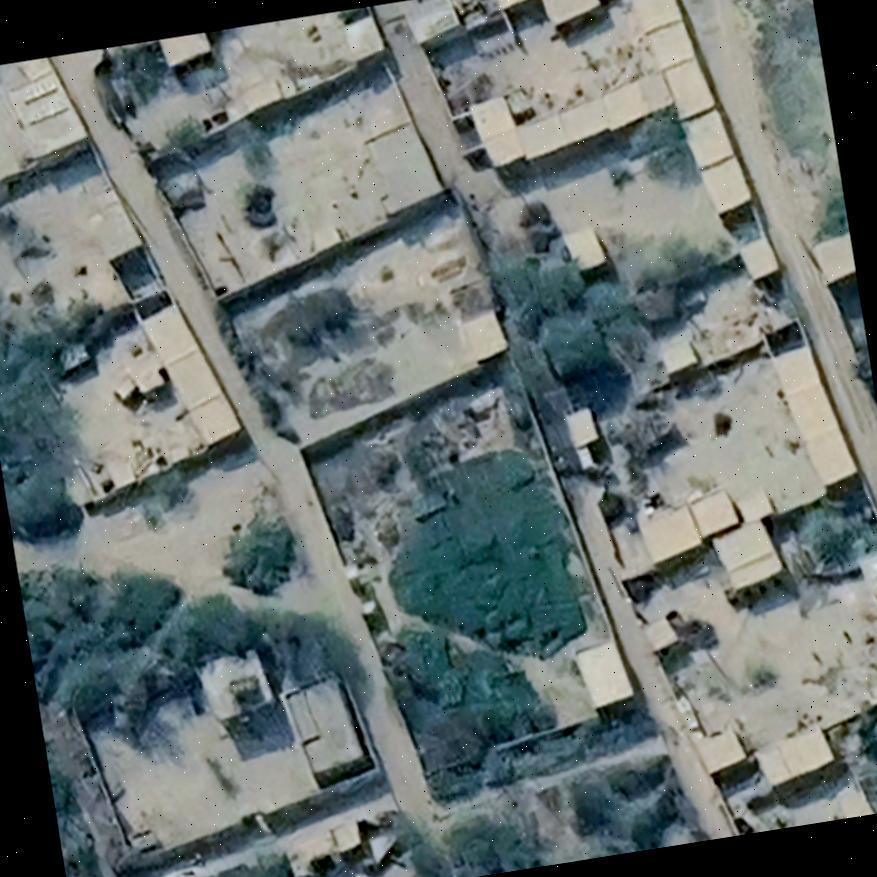Solarpanel: (25, 95, 69, 124), (18, 77, 57, 104)
